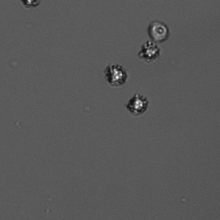Living Cell: (145, 19, 171, 43), (103, 63, 128, 87), (126, 93, 150, 116), (138, 42, 160, 61)
